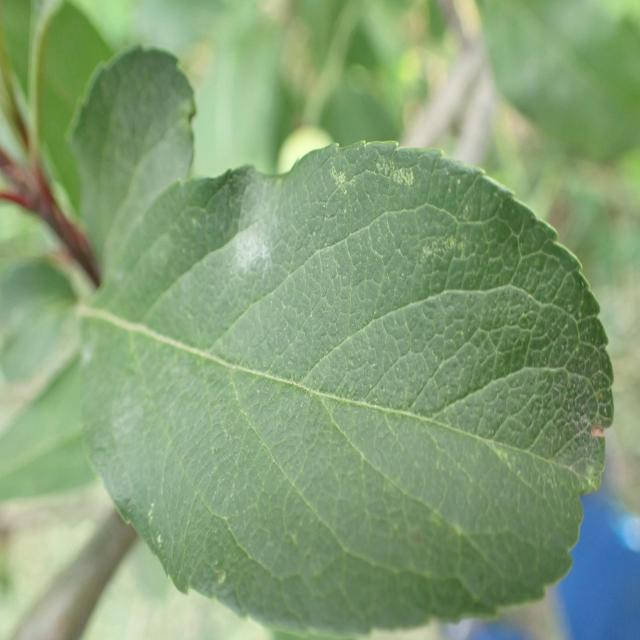Powdery_mildew: (69, 145, 604, 628), (74, 36, 199, 288)
